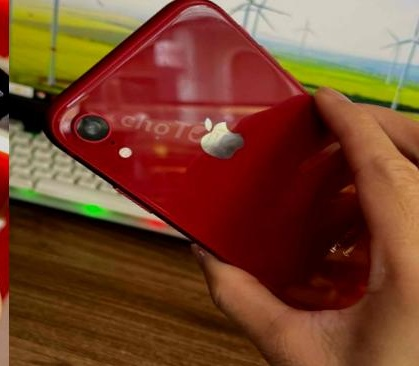scratch: (45, 107, 70, 137)
